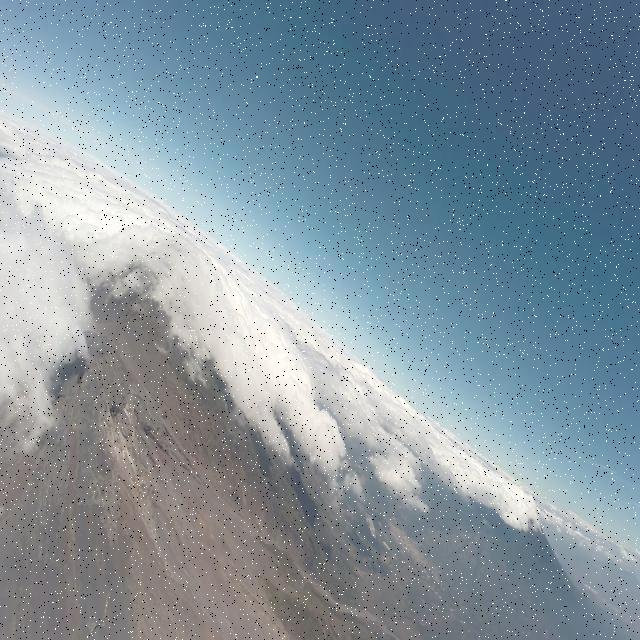Summit: (26, 329, 162, 426)
